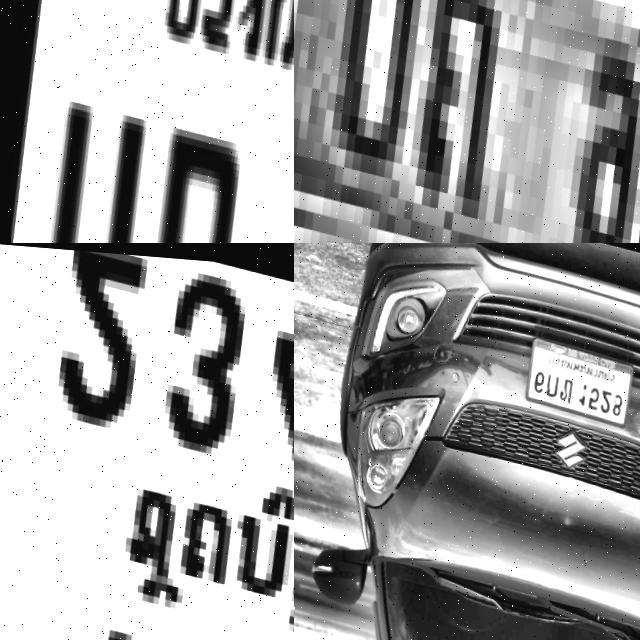license-plate: (0, 243, 294, 640), (294, 0, 640, 243), (0, 0, 294, 243), (517, 331, 637, 422)
